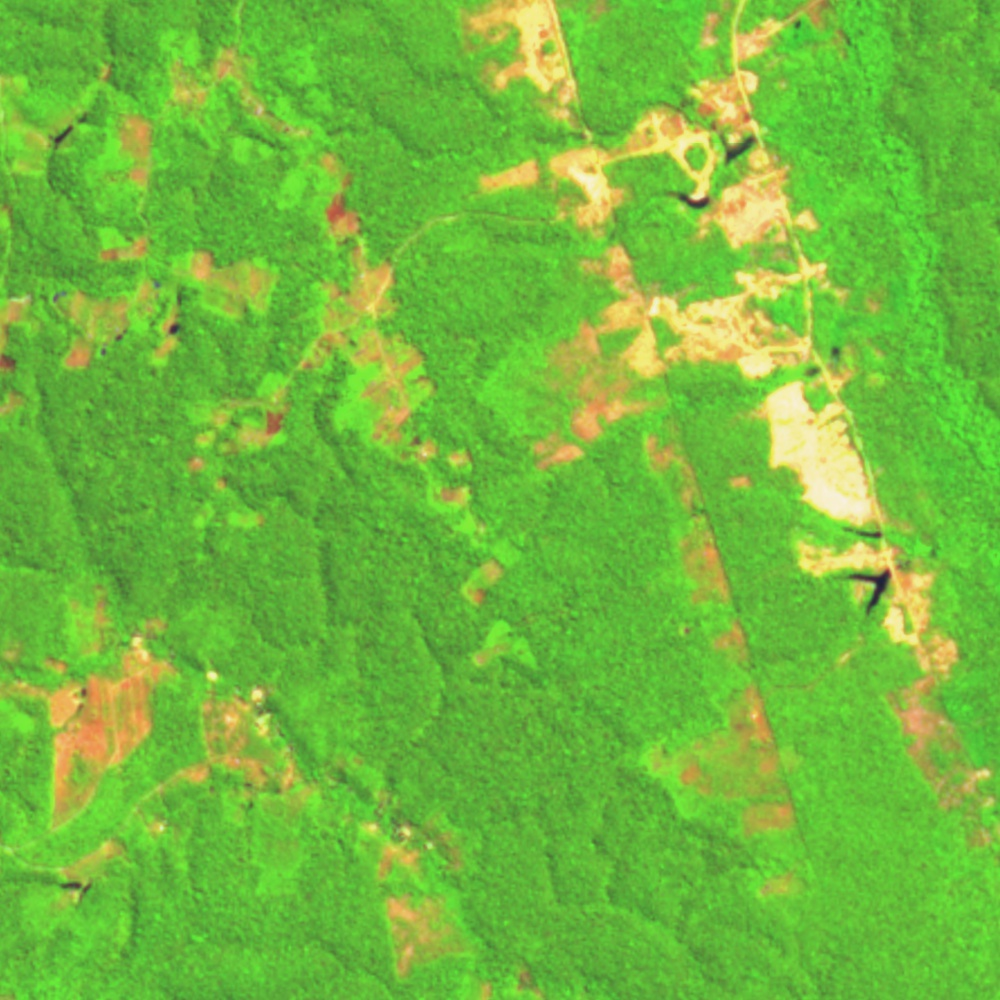legal: (627, 65, 852, 380), (306, 148, 490, 531), (1, 232, 280, 411), (1, 585, 178, 832), (453, 1, 634, 239), (535, 245, 706, 441), (641, 679, 803, 837), (755, 382, 914, 531), (797, 534, 961, 676), (186, 663, 319, 814), (884, 676, 1000, 846), (14, 61, 157, 196), (186, 376, 297, 527), (643, 428, 733, 612), (167, 39, 318, 142), (352, 791, 463, 879), (699, 1, 854, 61), (383, 891, 468, 980), (56, 832, 131, 908), (679, 614, 760, 667), (472, 618, 538, 671), (463, 552, 509, 608), (535, 429, 585, 475), (479, 968, 546, 1000), (755, 863, 810, 897), (719, 473, 755, 487)
